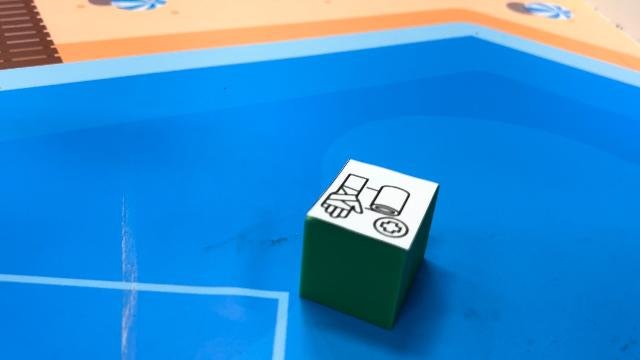bandage: (298, 158, 439, 330)
